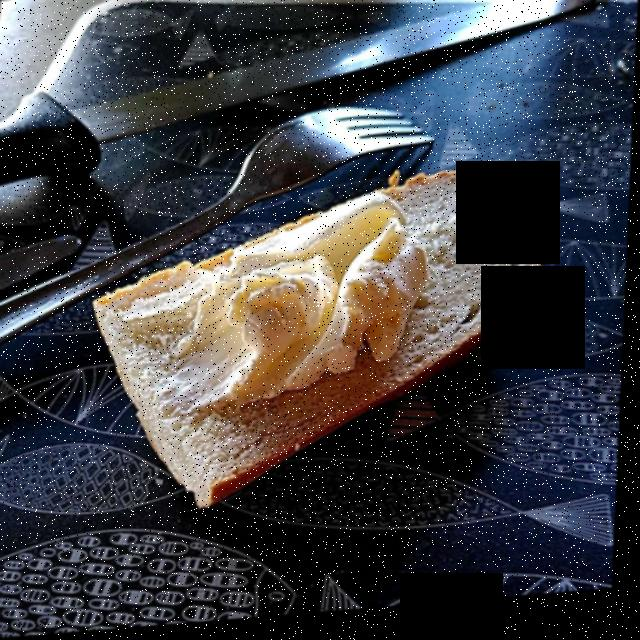bread-white: (98, 181, 544, 510), (101, 208, 419, 401)
philadelphia: (107, 195, 431, 406)
